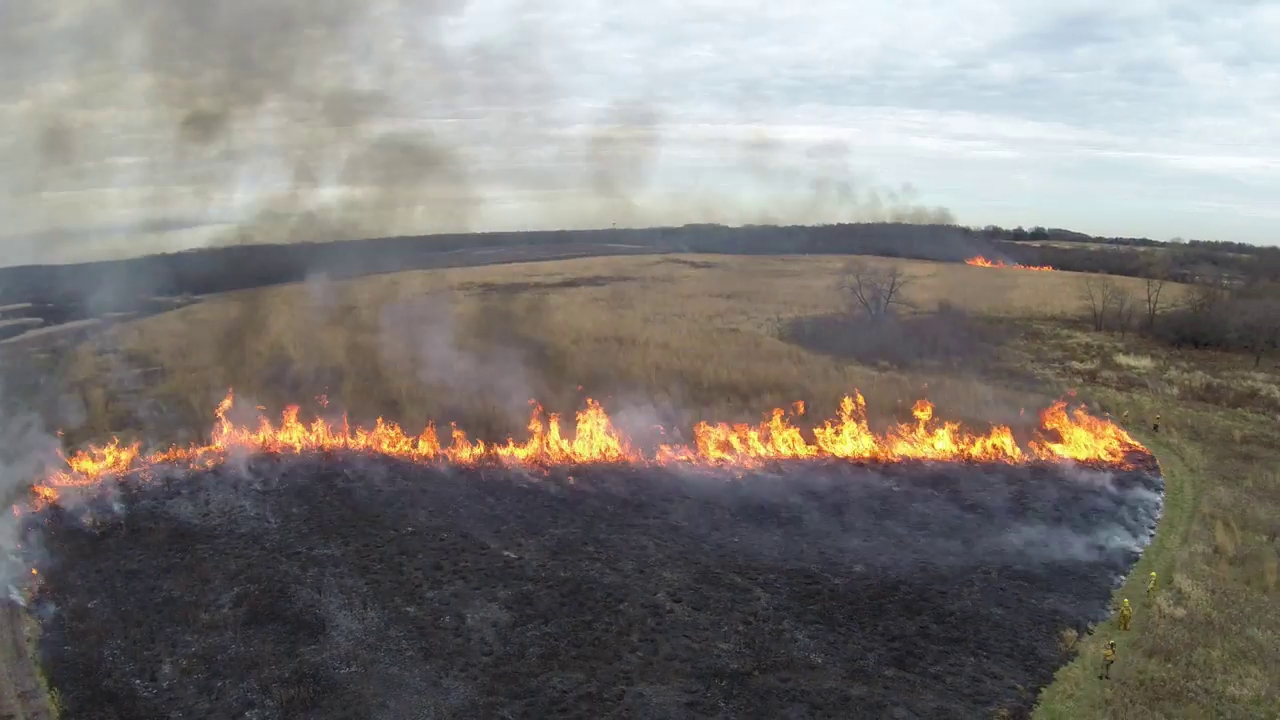forest_fire: (32, 391, 1144, 506), (964, 255, 1055, 271)
